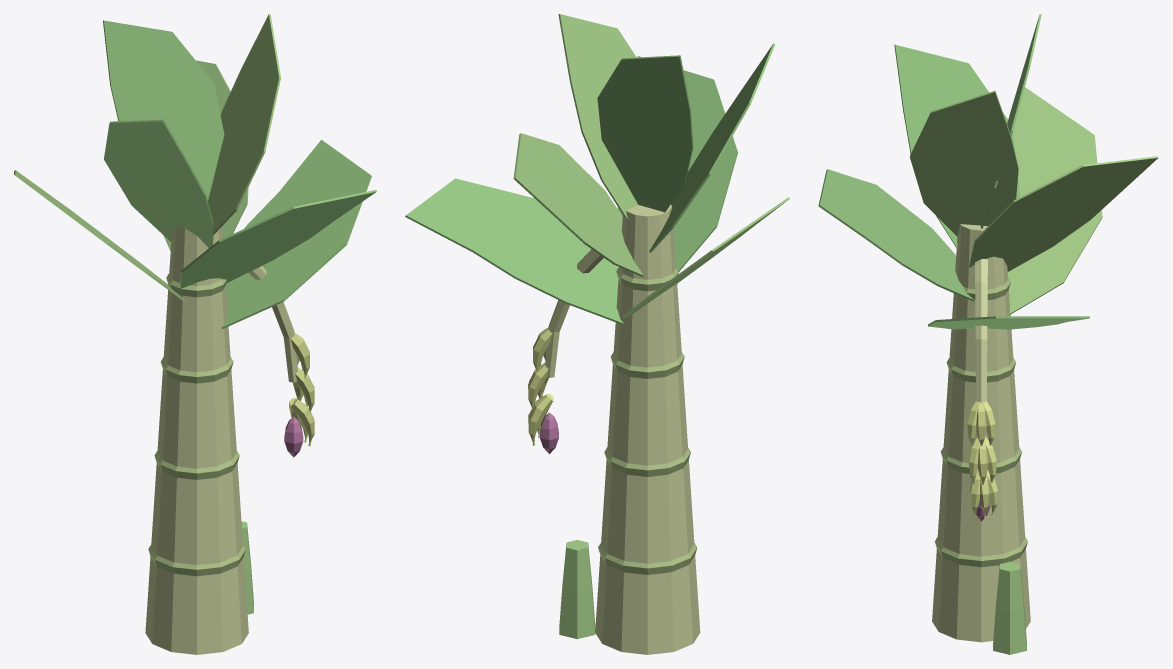
File: 33-Agricultura_bananero.glb
3 views of the same model, side by side, from view 1: azimuth 30°, elevation 25°; view 2: azimuth 150°, elevation 25°; view 3: azimuth 270°, elevation 25° (orthographic). The views are drawn at different scales.
Visible parts, largest first — view 1: SM_Bananero_M_Bananero_HojaA, SM_Bananero_M_Bananero_Tallo_Bananero_Vaina, SM_Bananero_M_Bananero_HojaB, SM_Bananero_M_Bananero_Banano_Bananero_Tallo, SM_Bananero_M_Bananero_Flor; view 2: SM_Bananero_M_Bananero_Tallo_Bananero_Vaina, SM_Bananero_M_Bananero_HojaA, SM_Bananero_M_Bananero_HojaB, SM_Bananero_M_Bananero_Banano_Bananero_Tallo, SM_Bananero_M_Bananero_Flor; view 3: SM_Bananero_M_Bananero_HojaB, SM_Bananero_M_Bananero_Tallo_Bananero_Vaina, SM_Bananero_M_Bananero_HojaA, SM_Bananero_M_Bananero_Banano_Bananero_Tallo.
Part boxes in pixels (<box>): SM_Bananero_M_Bananero_HojaA: <box>103,20,376,328</box>; SM_Bananero_M_Bananero_Tallo_Bananero_Vaina: <box>145,227,248,654</box>; SM_Bananero_M_Bananero_HojaB: <box>14,14,280,614</box>; SM_Bananero_M_Bananero_Banano_Bananero_Tallo: <box>248,266,314,446</box>; SM_Bananero_M_Bananero_Flor: <box>284,417,303,457</box>; SM_Bananero_M_Bananero_Tallo_Bananero_Vaina: <box>595,204,700,654</box>; SM_Bananero_M_Bananero_HojaA: <box>405,43,775,325</box>; SM_Bananero_M_Bananero_HojaB: <box>513,14,789,639</box>; SM_Bananero_M_Bananero_Banano_Bananero_Tallo: <box>528,249,603,445</box>; SM_Bananero_M_Bananero_Flor: <box>540,412,558,454</box>; SM_Bananero_M_Bananero_HojaB: <box>910,87,1158,654</box>; SM_Bananero_M_Bananero_Tallo_Bananero_Vaina: <box>932,224,1030,642</box>; SM_Bananero_M_Bananero_HojaA: <box>818,14,1089,329</box>; SM_Bananero_M_Bananero_Banano_Bananero_Tallo: <box>967,259,998,517</box>.
Size of the model in its own units: 1.46 by 2.45 by 1.31.
